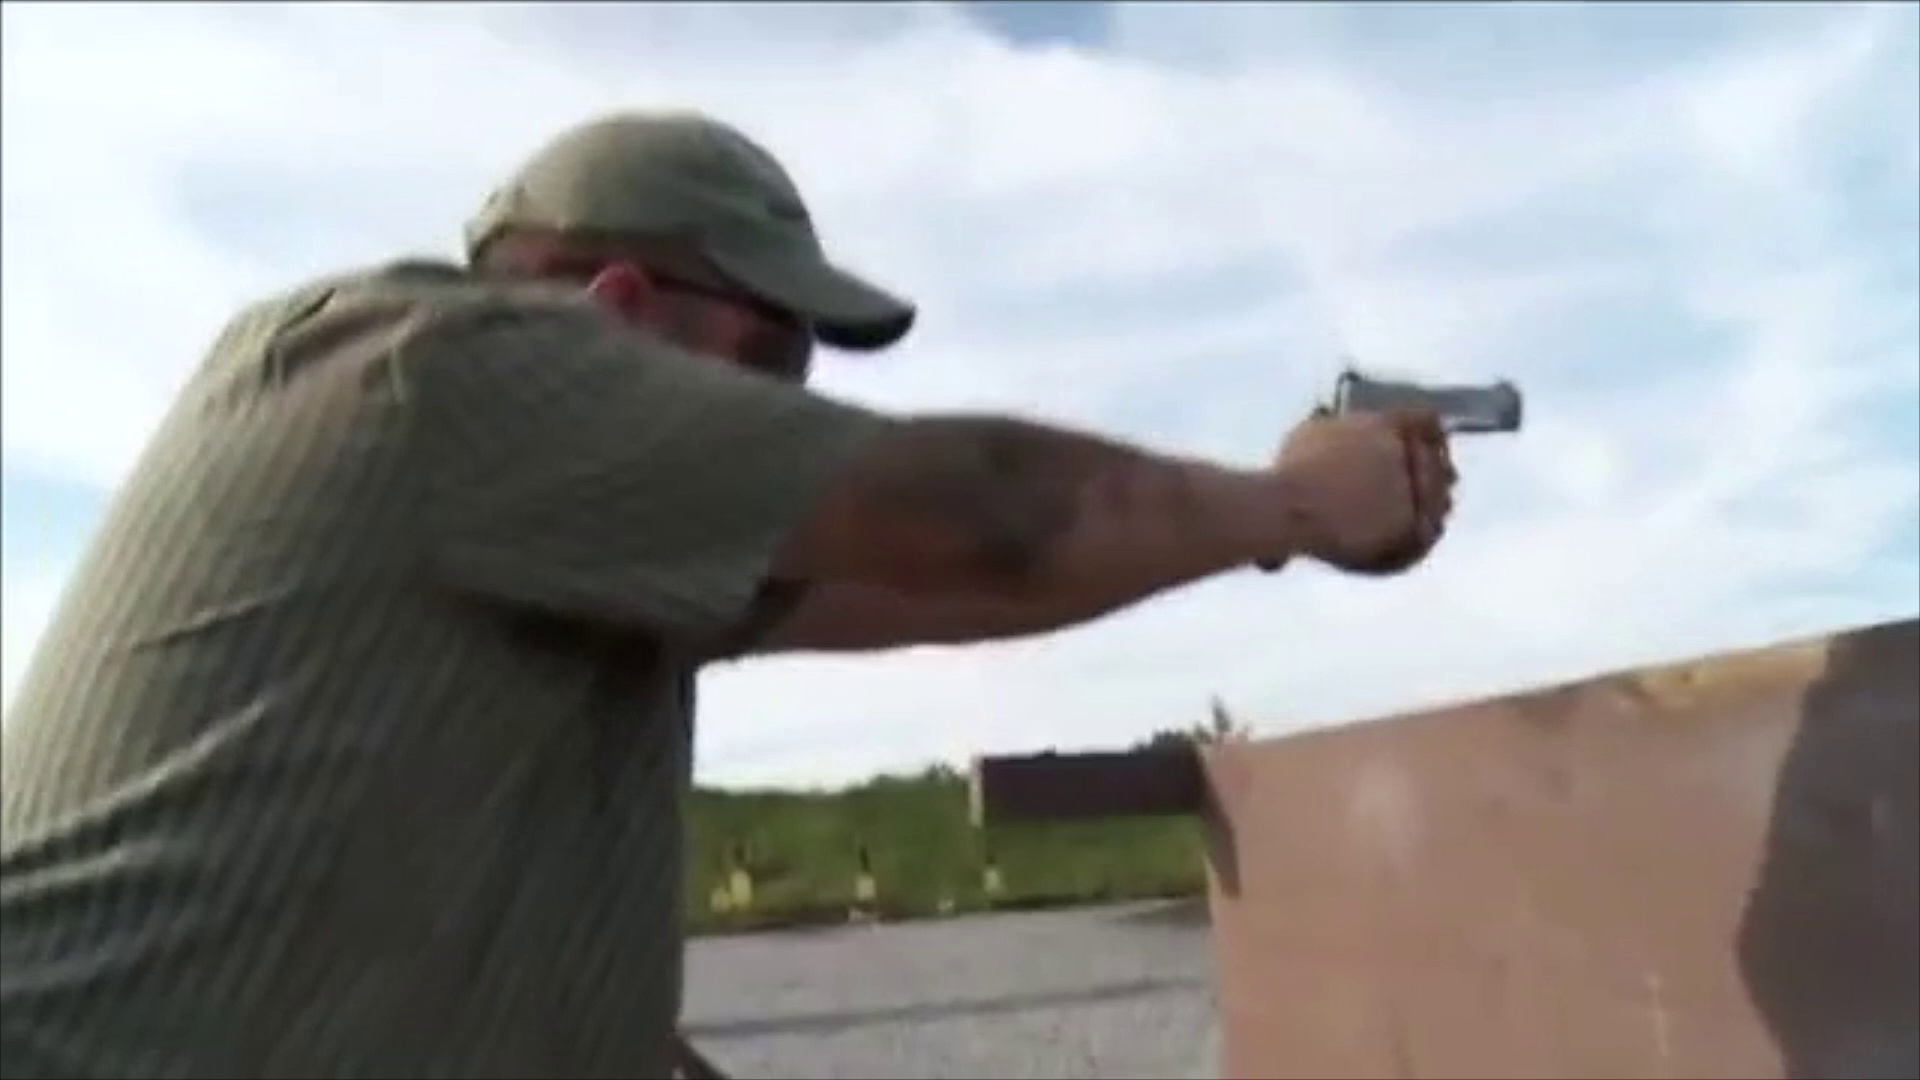gun: (1331, 360, 1538, 448)
